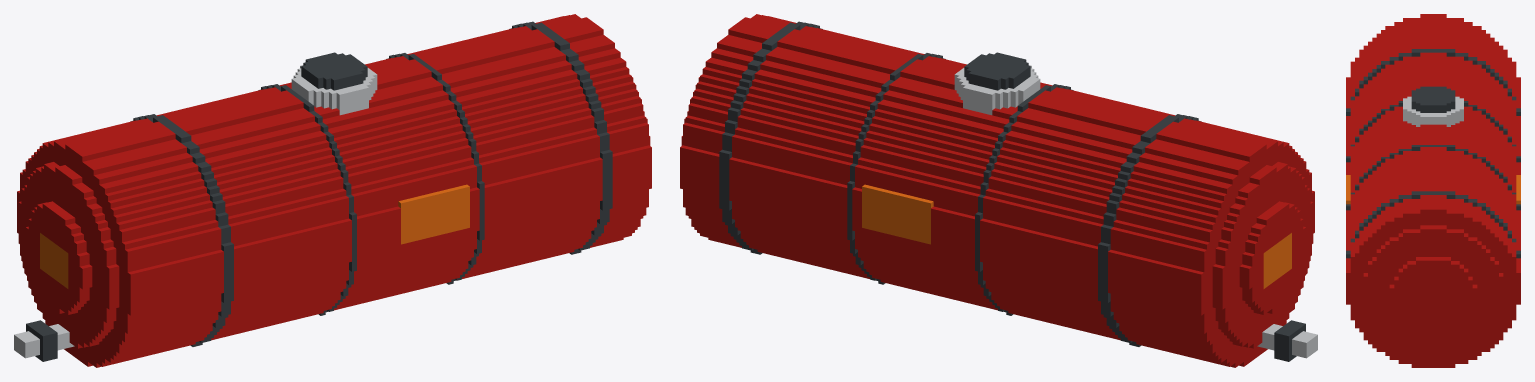
File: tank_trailer_barrel.glb
The picture shows the model from 3 angles, left to right: view 1: azimuth 30°, elevation 25°; view 2: azimuth 150°, elevation 25°; view 3: azimuth 270°, elevation 25°; orthographic projection. The views are drawn at different scales.
Visible parts, largest first — view 1: body:compound; view 2: body:compound; view 3: body:compound.
Boxes of the visible parts, x1,y1,x2,y2 form: body:compound: (14, 14, 651, 367); body:compound: (680, 14, 1317, 367); body:compound: (1346, 14, 1520, 367).
Bounding box in the file's own units: 3.78 × 1.38 × 1.25.
